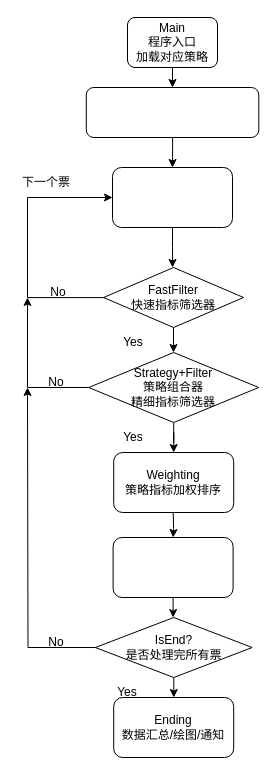
Some shapes in this 277 by 775 pixel diagram are drawn without their labels. Each missing label, with the box of its shape:
Input 单个股票信息输入源: (112, 166, 232, 228)
Launch 拉取当日A股所有股票交易数据: (85, 86, 259, 138)
Output 记录加权结果: (112, 536, 233, 598)
